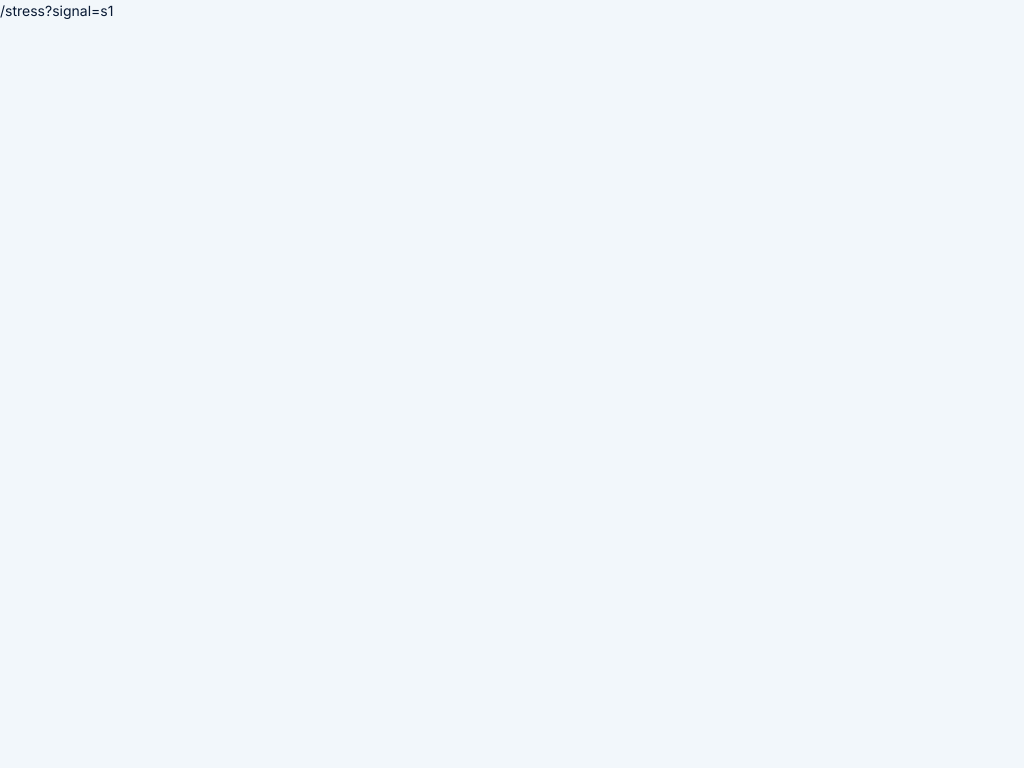
Scenario: CommandPalette › offers the current page's explanations and opens them by URL
Press /
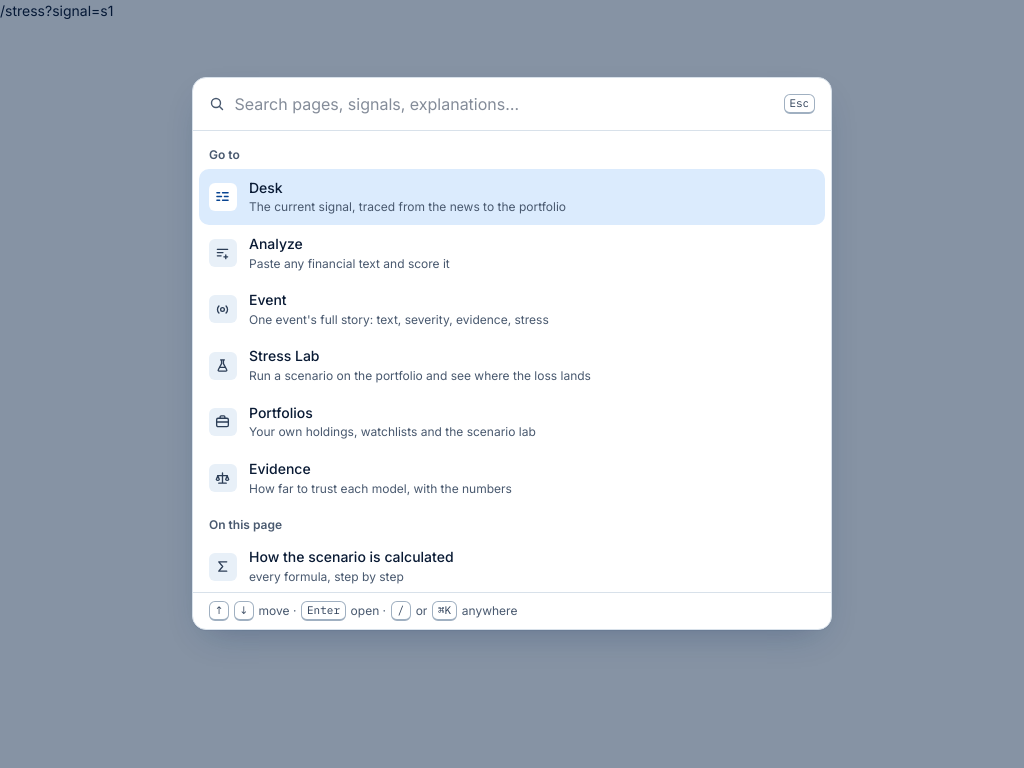
Click the option "How the scenario is calculated every formula, step by step".
click(331, 566)  # box [209,548,454,584]
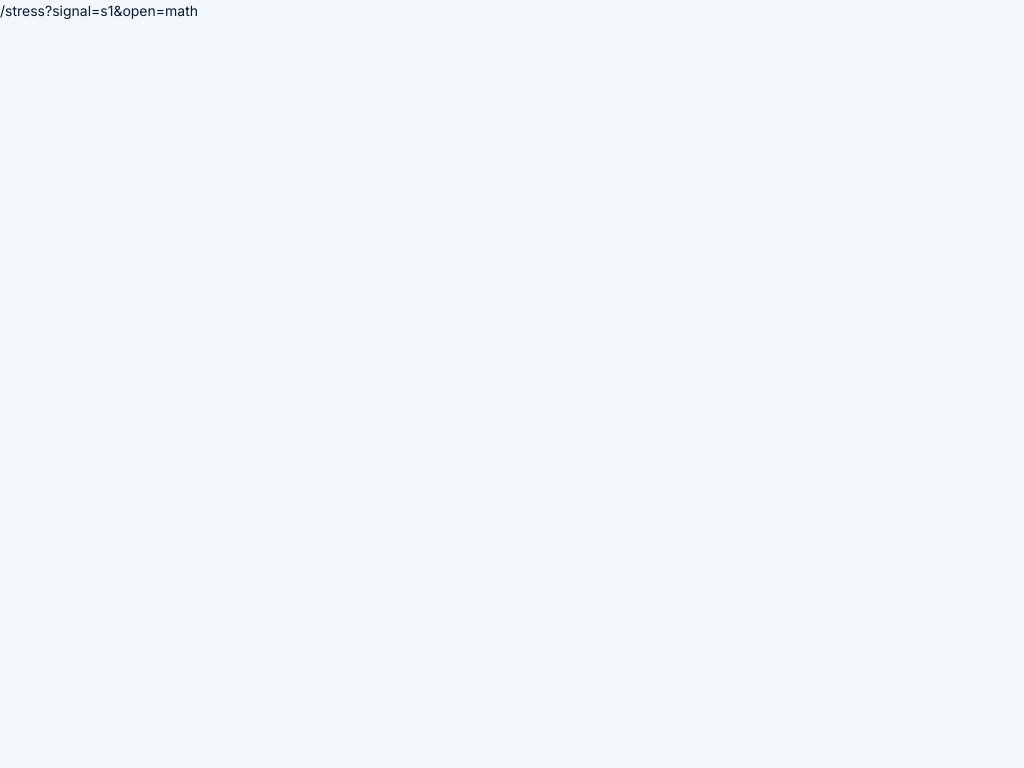
Result: the text with test id "where" shows "open=math" at [0,2,198,19]
